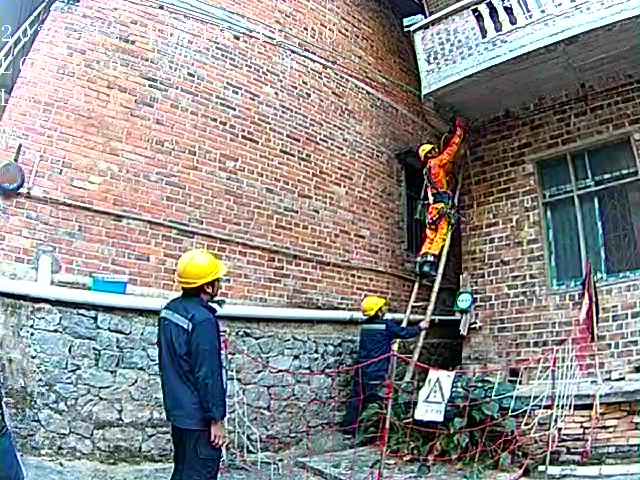halt: (177, 252, 229, 300), (365, 299, 390, 321), (421, 145, 441, 166)
